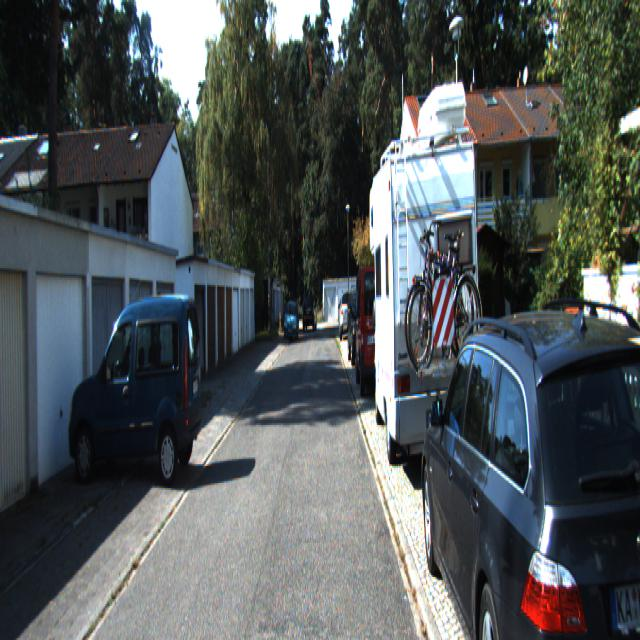Car: (418, 292, 640, 638), (369, 104, 477, 480), (69, 291, 204, 486), (354, 255, 403, 400), (338, 288, 356, 338), (284, 298, 299, 339), (303, 296, 317, 330)
